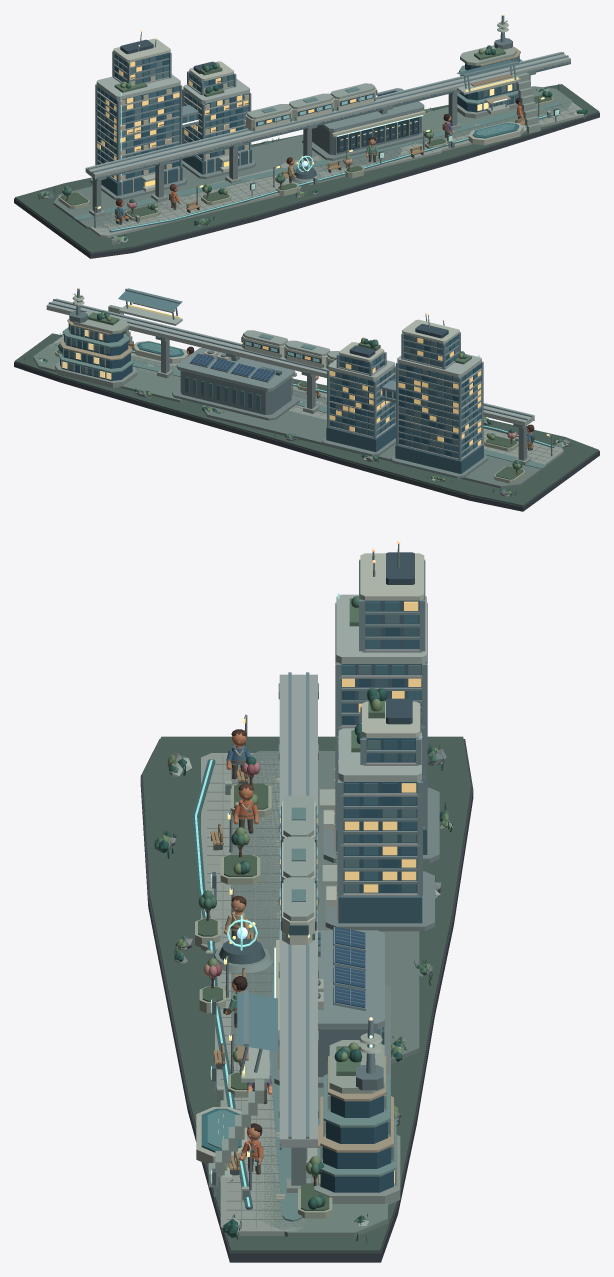
Rendered from information.glb.
3 views of the same model, one above another, from view 1: azimuth 30°, elevation 25°; view 2: azimuth 150°, elevation 25°; view 3: azimuth 270°, elevation 25° (orthographic). The views are drawn at different scales.
Parts seen in each view (by area): view 1: TerrainAndBuildings, InformationTram; view 2: TerrainAndBuildings, InformationTram; view 3: TerrainAndBuildings, InformationTram.
Boxes of the visible parts, x1,y1,x2,y2 form: TerrainAndBuildings: [14, 14, 599, 258]; InformationTram: [245, 83, 377, 131]; TerrainAndBuildings: [14, 287, 599, 511]; InformationTram: [241, 330, 339, 369]; TerrainAndBuildings: [140, 540, 473, 1262]; InformationTram: [279, 795, 317, 944].
Size of the model in its own units: 1.73 by 0.494 by 0.4717.
